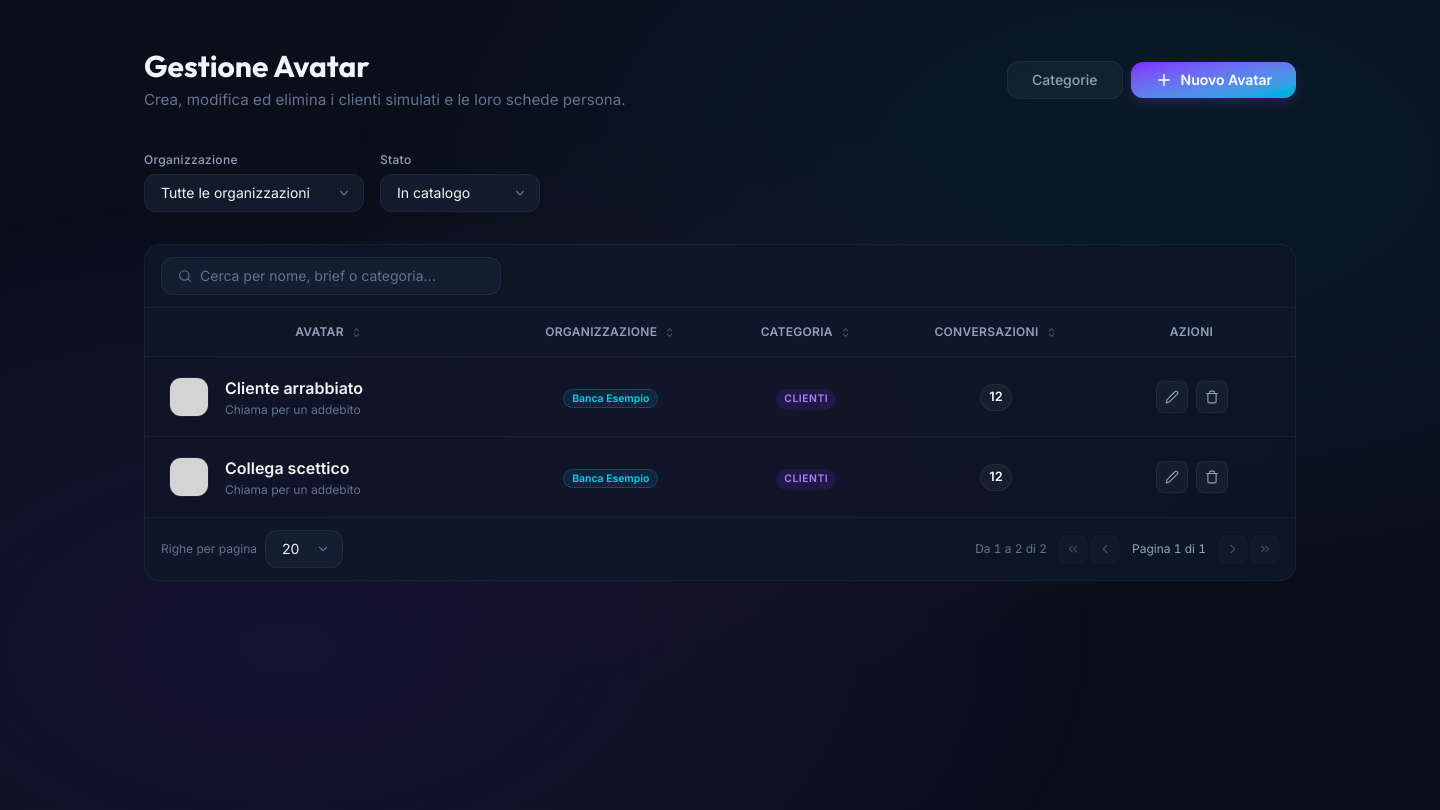
Scenario: catalogo › filtra per organizzazione
Step 1. Click the dropdown named "Organizzazione" → (254, 193), box [144,174,364,212]
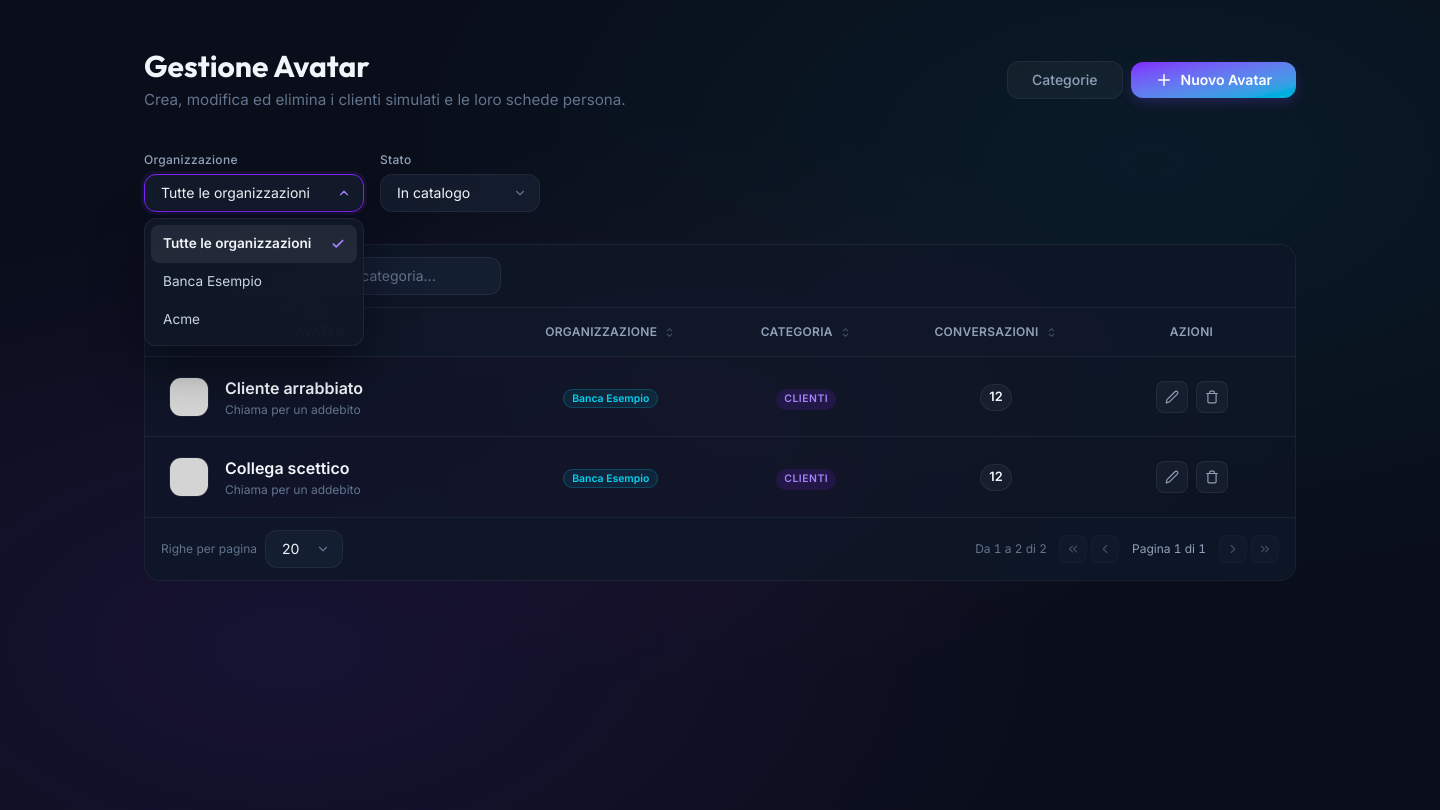
Step 2. Click the option "Acme" → (182, 319), box [163,311,200,327]
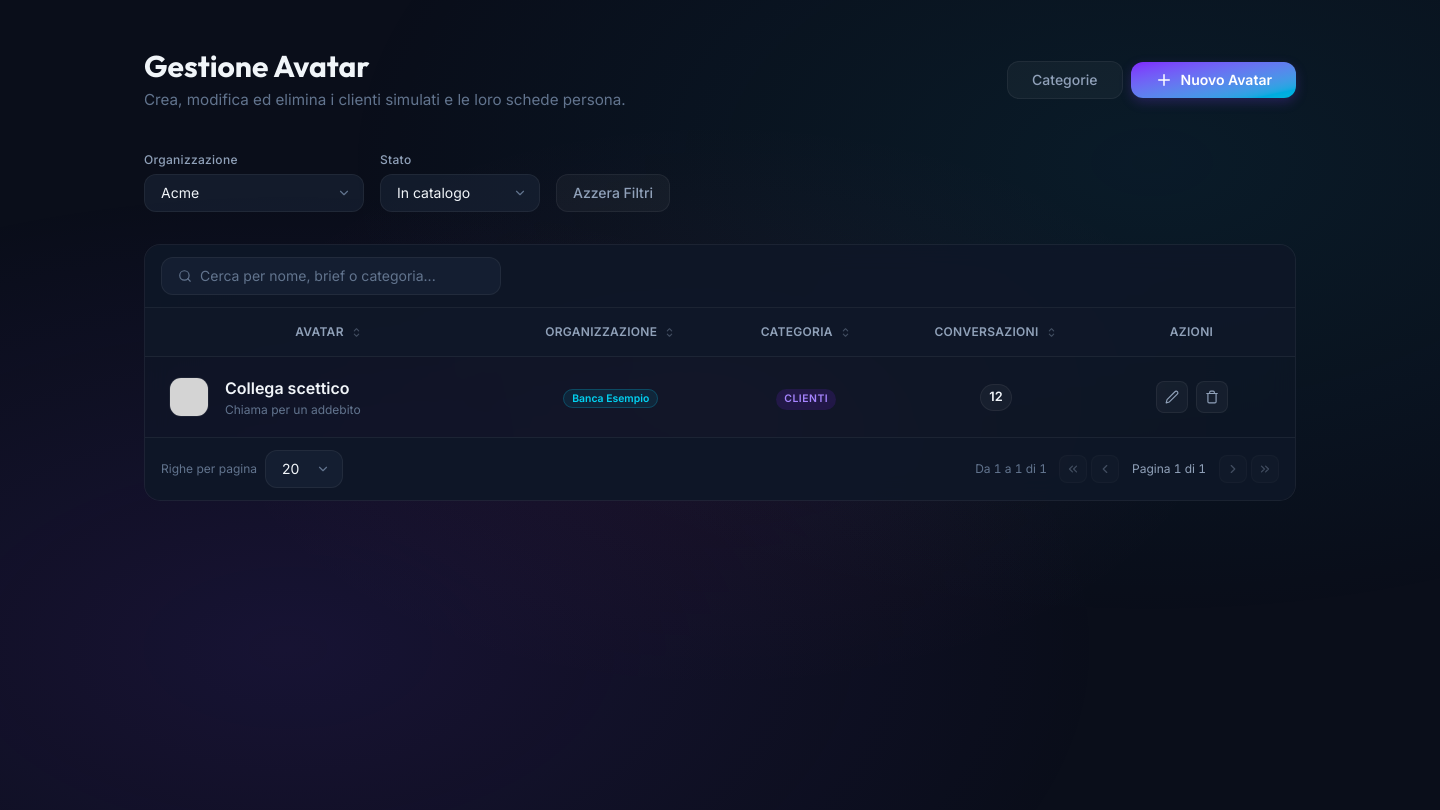
Expected: the text "Collega scettico" is shown, [225,376,350,402]
Now the text "Cliente arrabbiato" is gone
